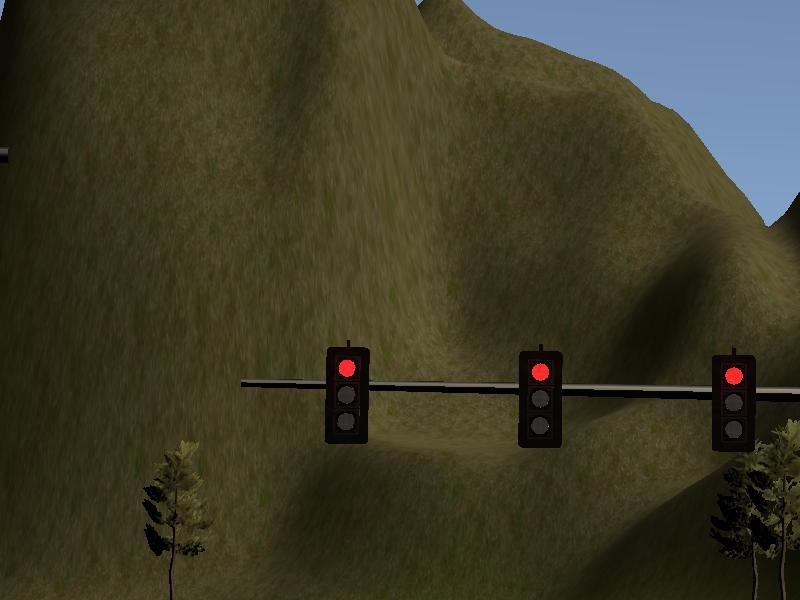RED: (517, 350, 563, 447), (322, 346, 368, 443), (710, 355, 756, 452)
